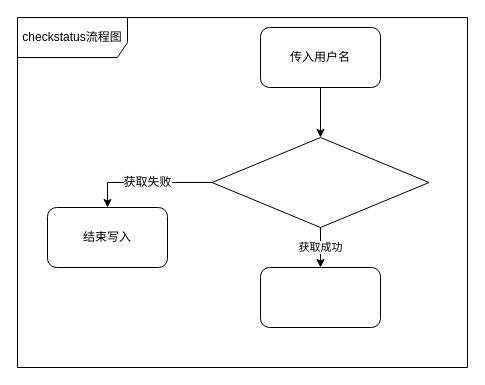
Some shapes in this 485 by 385 pixel diagram are drawn without their labels. Here are the shapes that lost their labels. From the top down, the centre of each, then its label:
At (x=320, y=182): "根据用户名从map中获取当前登录用户的token值".
At (x=320, y=297): "持续向流中返回token".
